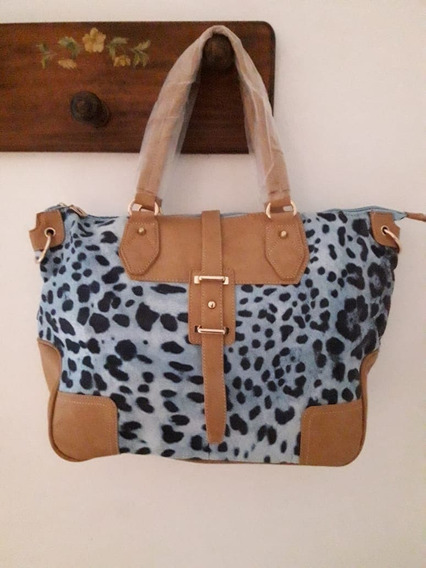cartera: (30, 24, 426, 466)
